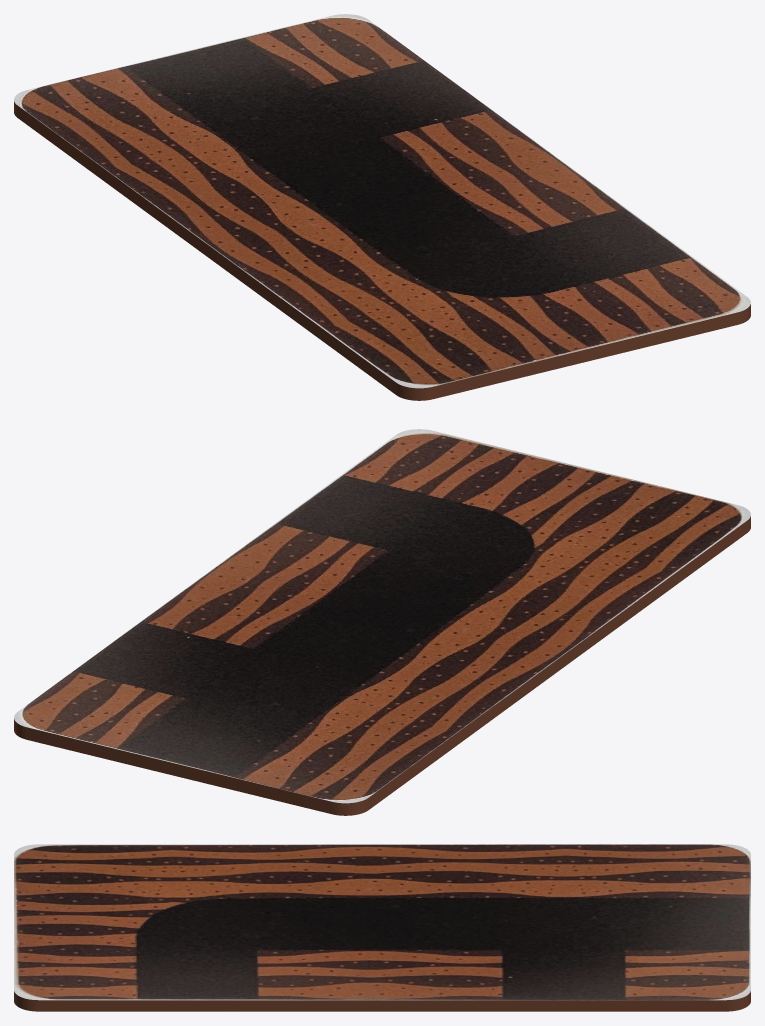
3 renders of one model, top to bottom at view 1: azimuth 30°, elevation 25°; view 2: azimuth 150°, elevation 25°; view 3: azimuth 270°, elevation 25°, orthographic. The views are drawn at different scales.
Parts seen in each view (by area): view 1: g9; view 2: g9; view 3: g9.
Part boxes in pixels (x1,y1,x2,y2): g9: [14, 14, 750, 400]; g9: [14, 429, 750, 815]; g9: [14, 844, 750, 1011].
Size of the model in its own units: 0.044 by 0.0015 by 0.088.
Materials: 3 (2 with a texture image).
